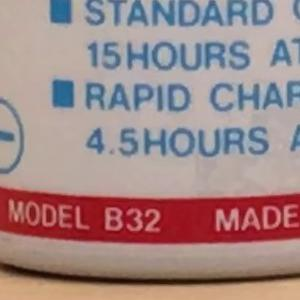keyword: (52, 202, 145, 232)
